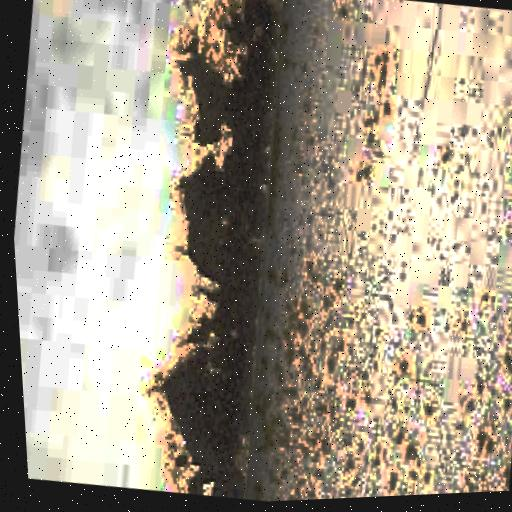corrosion: (119, 0, 318, 504)
